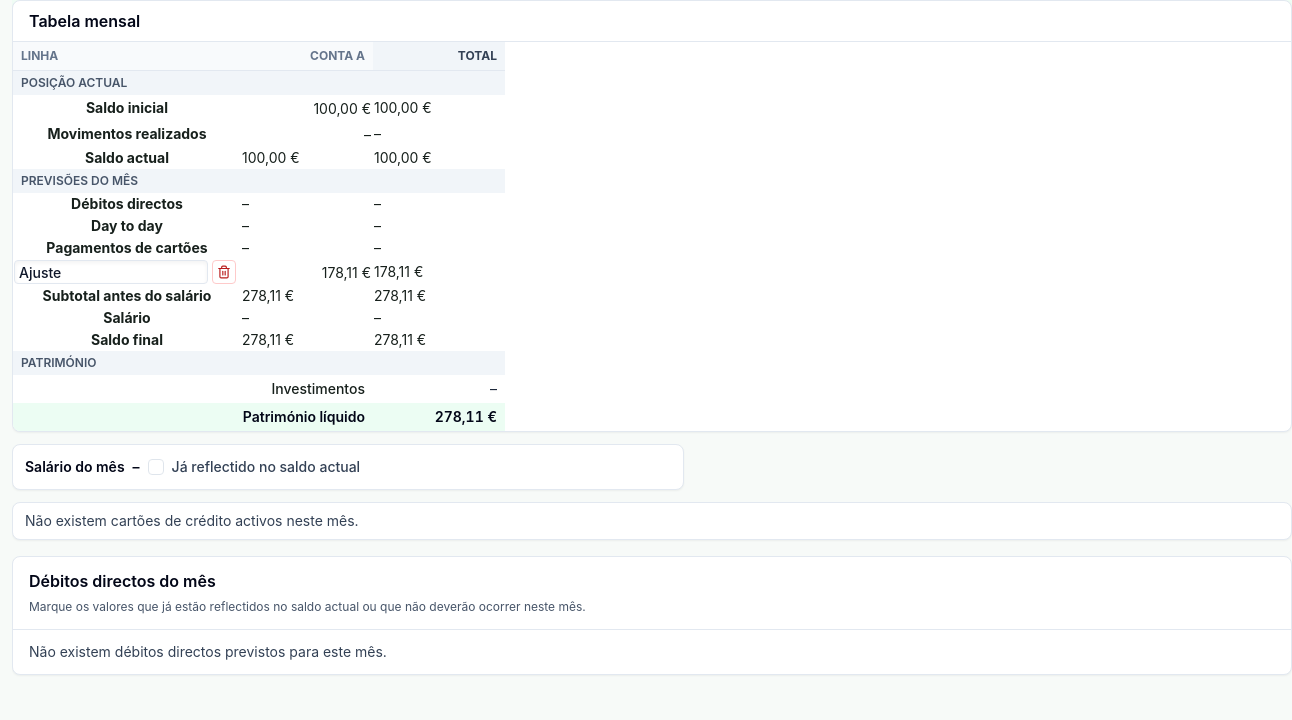
Test: MonthlyBudgetTable › renders editable custom values with read-only currency formatting until focused
This screenshot has width=1292, height=720.
Focus the field named "Ajuste — Conta A" at (307, 272), box [242,260,372,284]
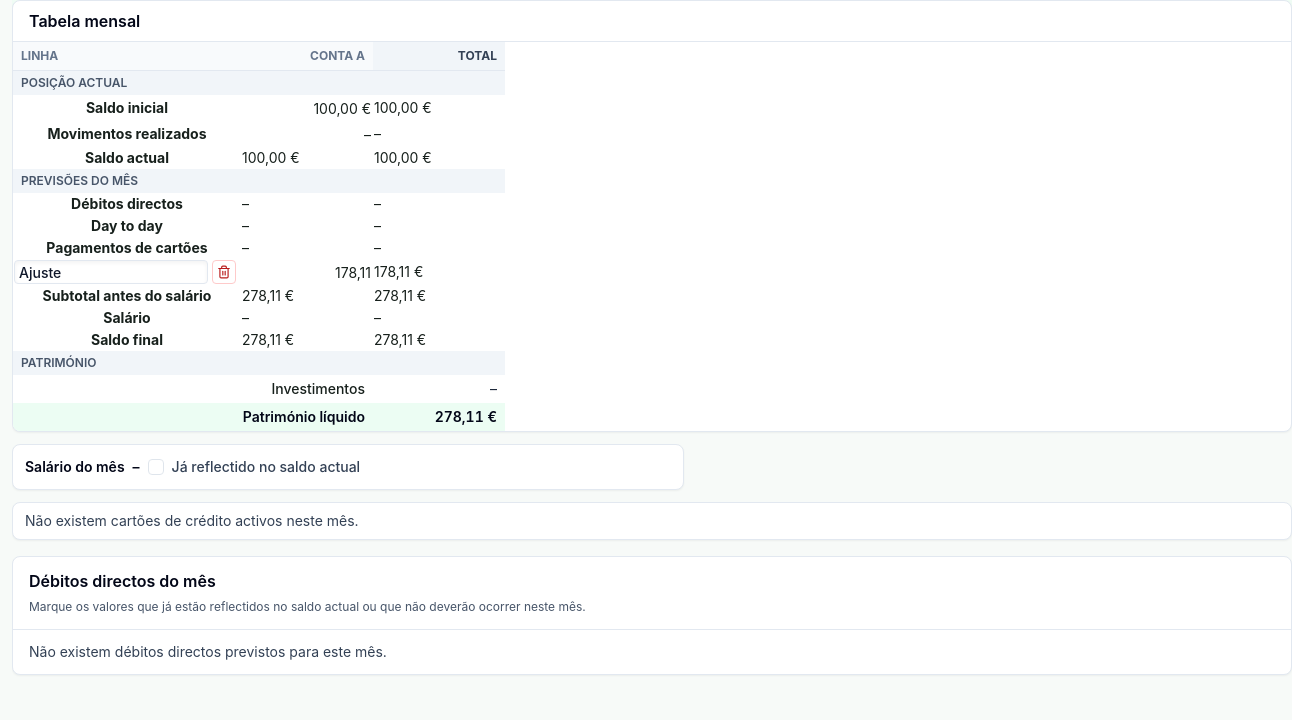
Expected: the field named "Ajuste — Conta A" holds "178,11"
Replace the text in the field named "Ajuste — Conta A" with "25,00" at (307, 272), box [242,260,372,284]
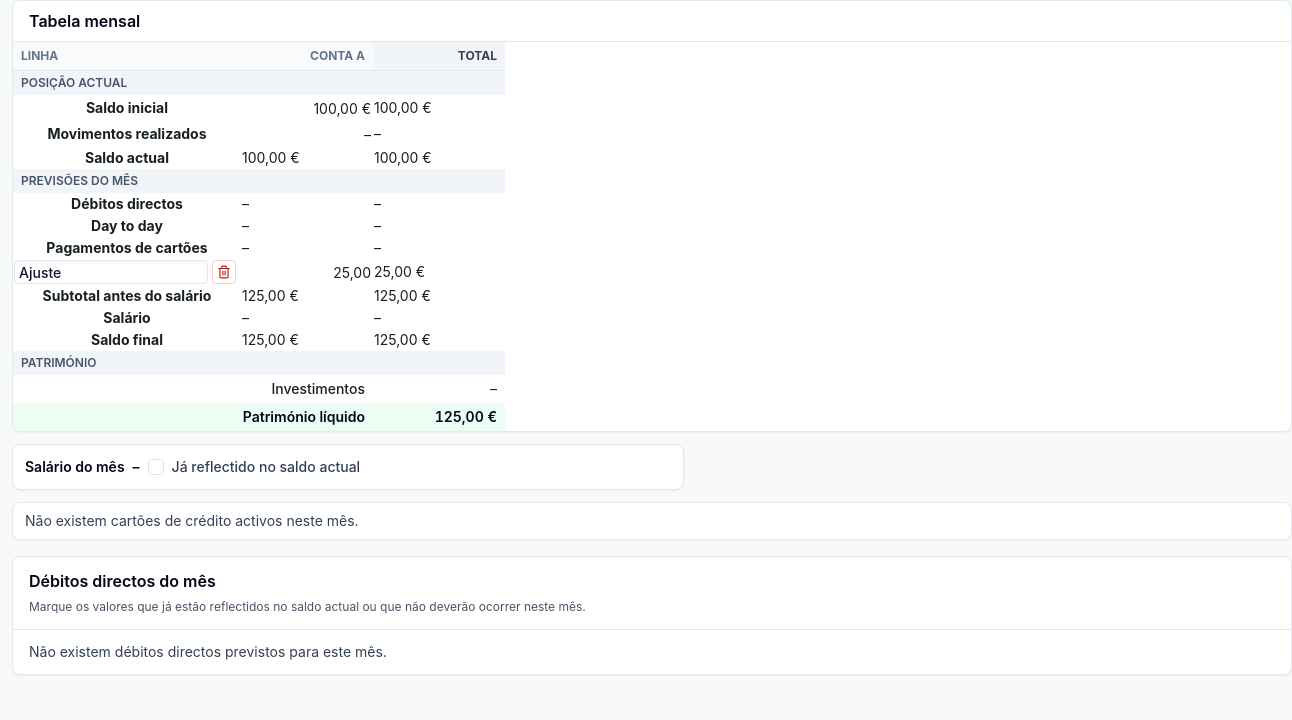
Expected: the 3rd text "125,00 €" is shown, [241,329,373,351]
